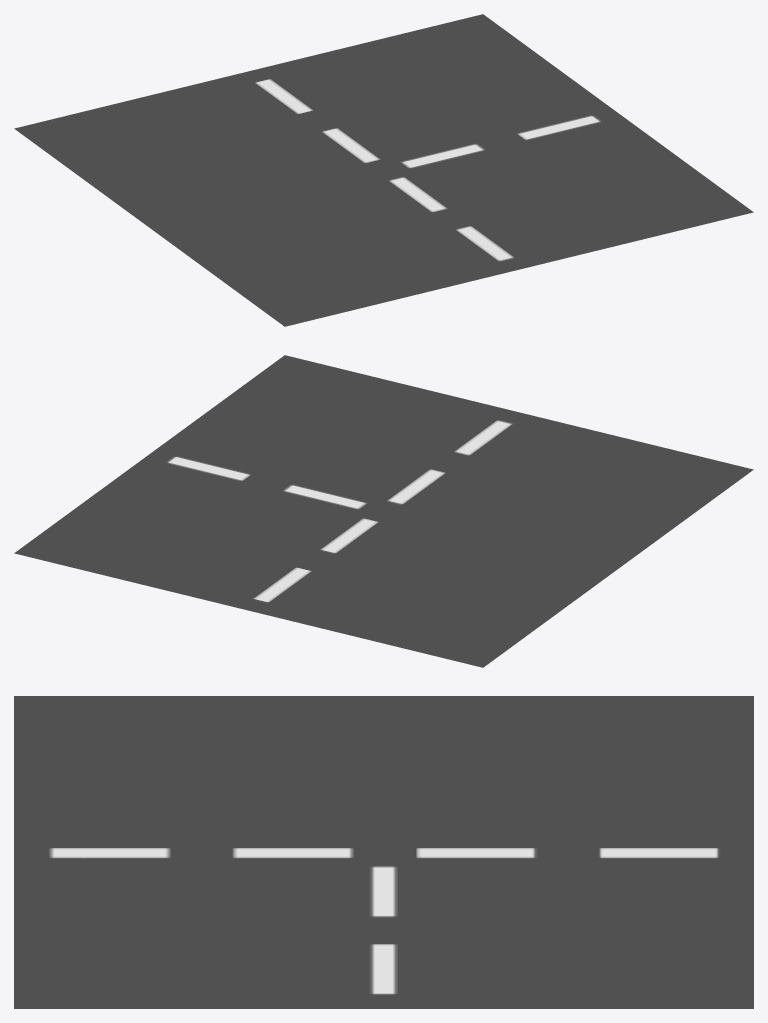
File: Road_Cross_02.FBX
3 views of the same model, one above another, from view 1: azimuth 30°, elevation 25°; view 2: azimuth 150°, elevation 25°; view 3: azimuth 270°, elevation 25° (orthographic). The views are drawn at different scales.
Visible parts, largest first — view 1: Road_Cross_02; view 2: Road_Cross_02; view 3: Road_Cross_02.
Boxes of the visible parts, x1,y1,x2,y2 form: Road_Cross_02: (14, 14, 753, 326); Road_Cross_02: (14, 355, 753, 667); Road_Cross_02: (14, 696, 753, 1008).
Bounding box in the file's own units: 8 × 9.02e-07 × 8.
